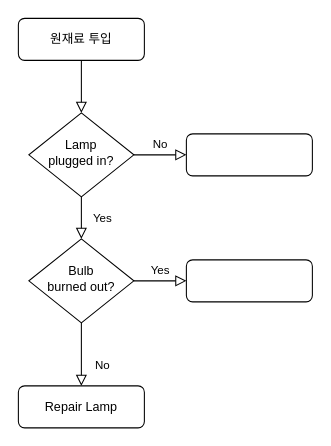
The diagram is 331 pixels wide and 446 high, and some of its shapes have lost their labels. Each missing label, with the centre of its shape:
"Plug in lamp" goes at point (248, 154).
"Replace Bulb" goes at point (248, 280).
